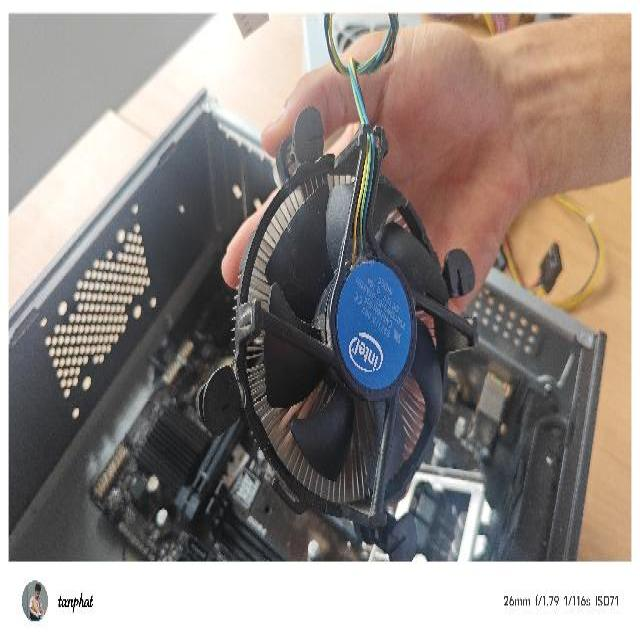CPU_Fan: (192, 100, 478, 565)
